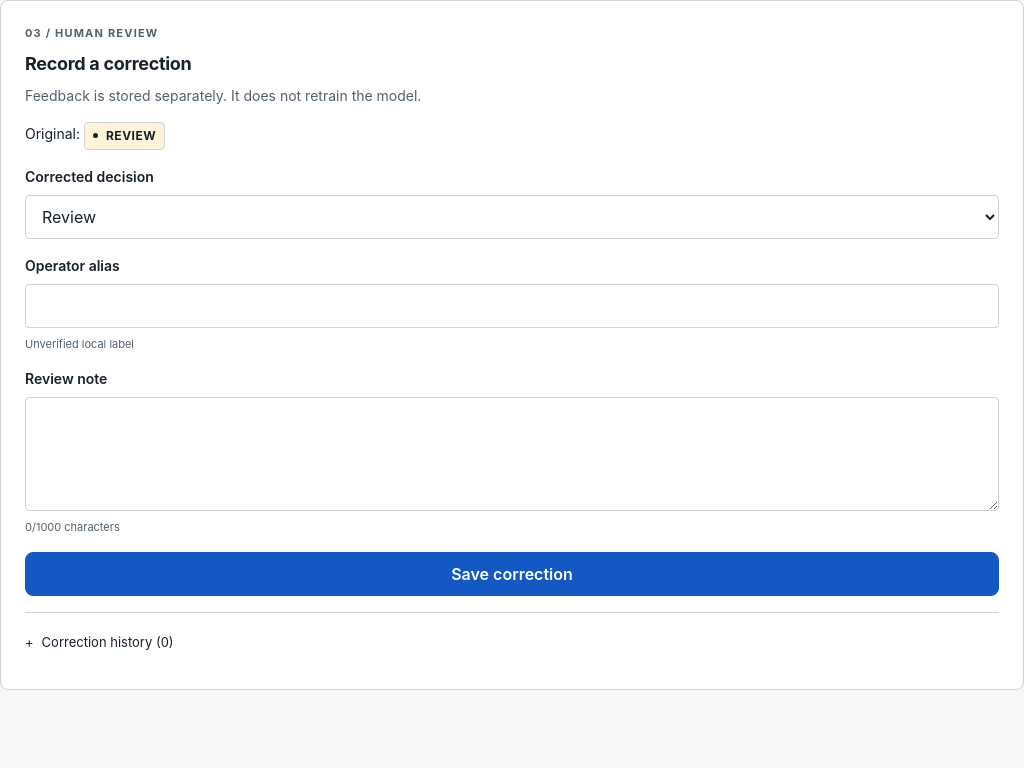
Test: operator workflow › preserves correction note on conflict
Type "Matthew" into the field labelled "Operator alias" at (512, 306), box [25,284,999,328]
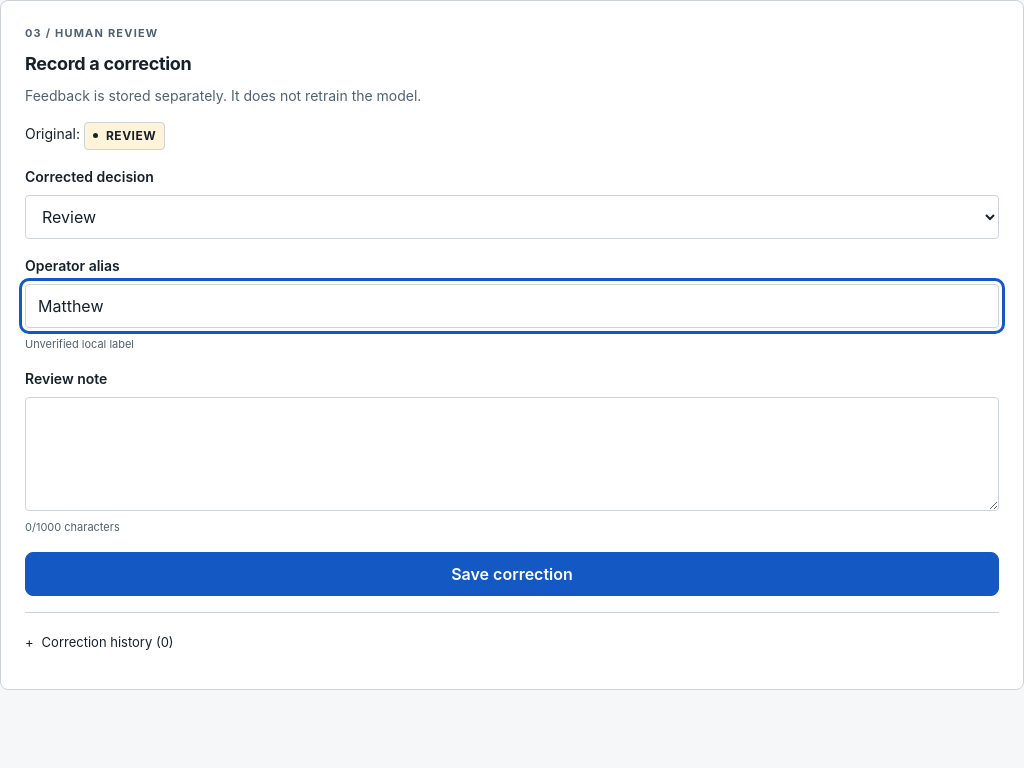
Type "Fastener is present" into the text box labelled "Review note" at (512, 454), box [25,397,999,511]
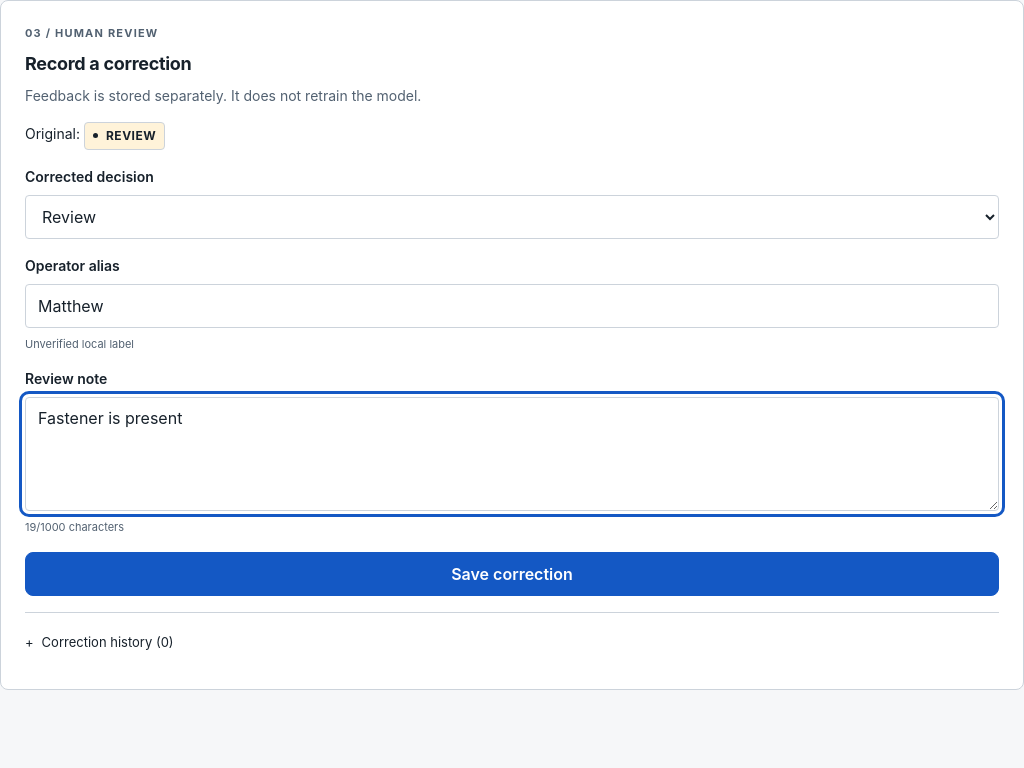
Click the button "Save correction" at (512, 574), box [25,552,999,596]
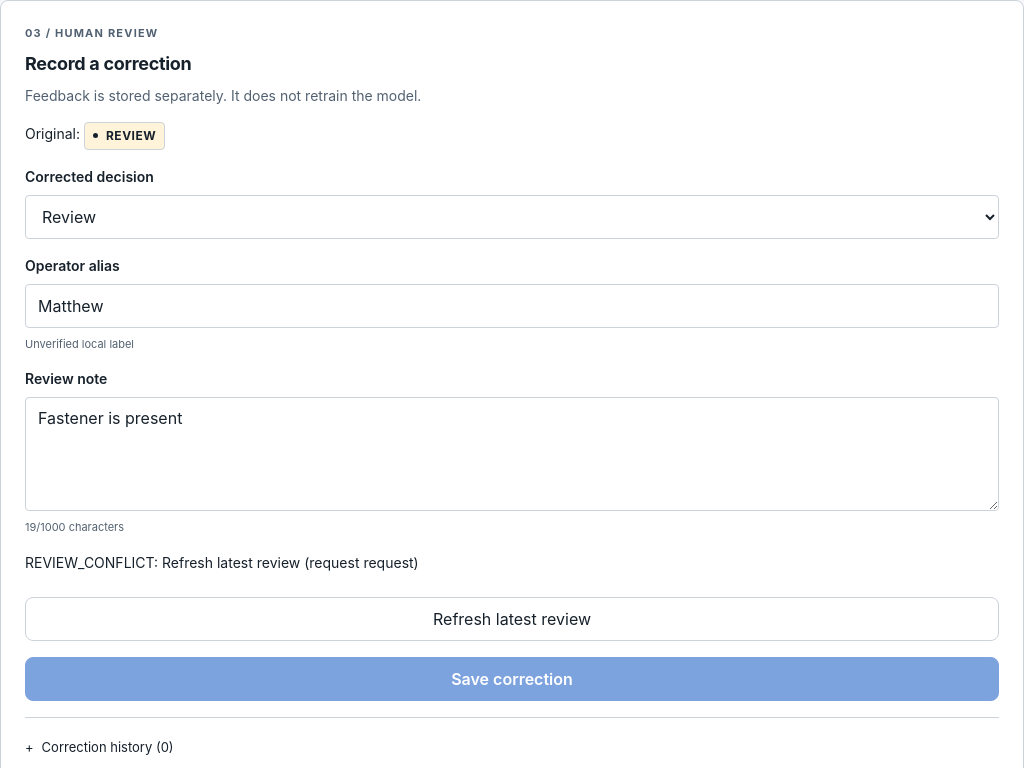
Expected: the message shows "Refresh", [25,554,419,570]
